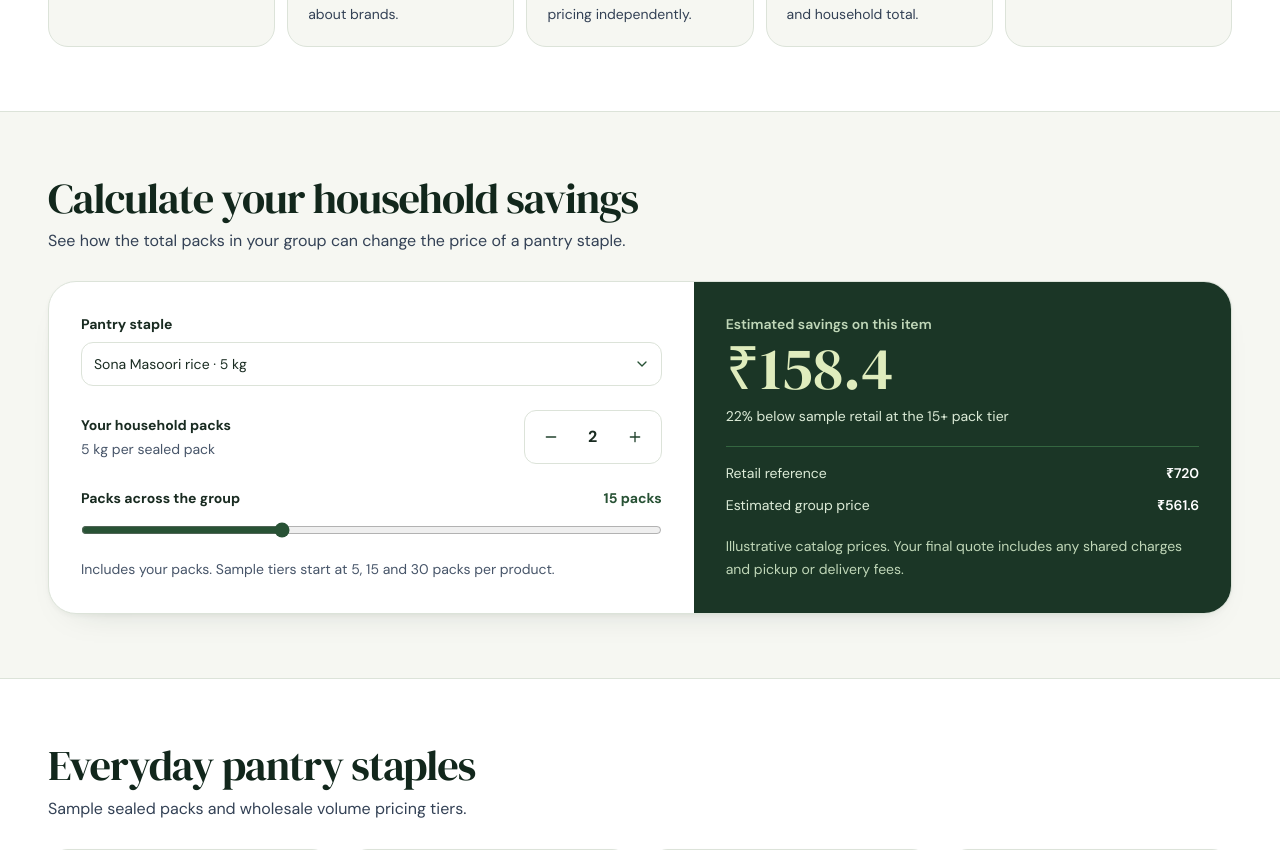
Test: Landing page › recalculates the household total at the selected tier and handles ineligible quantities
The width and height of the screenshot is (1280, 850).
(page scrolled)
Expected: the text "₹158.4" is shown, [726,327,893,409]
Click the button named "Add one household pack".
click(635, 437)  # box [613,415,657,459]
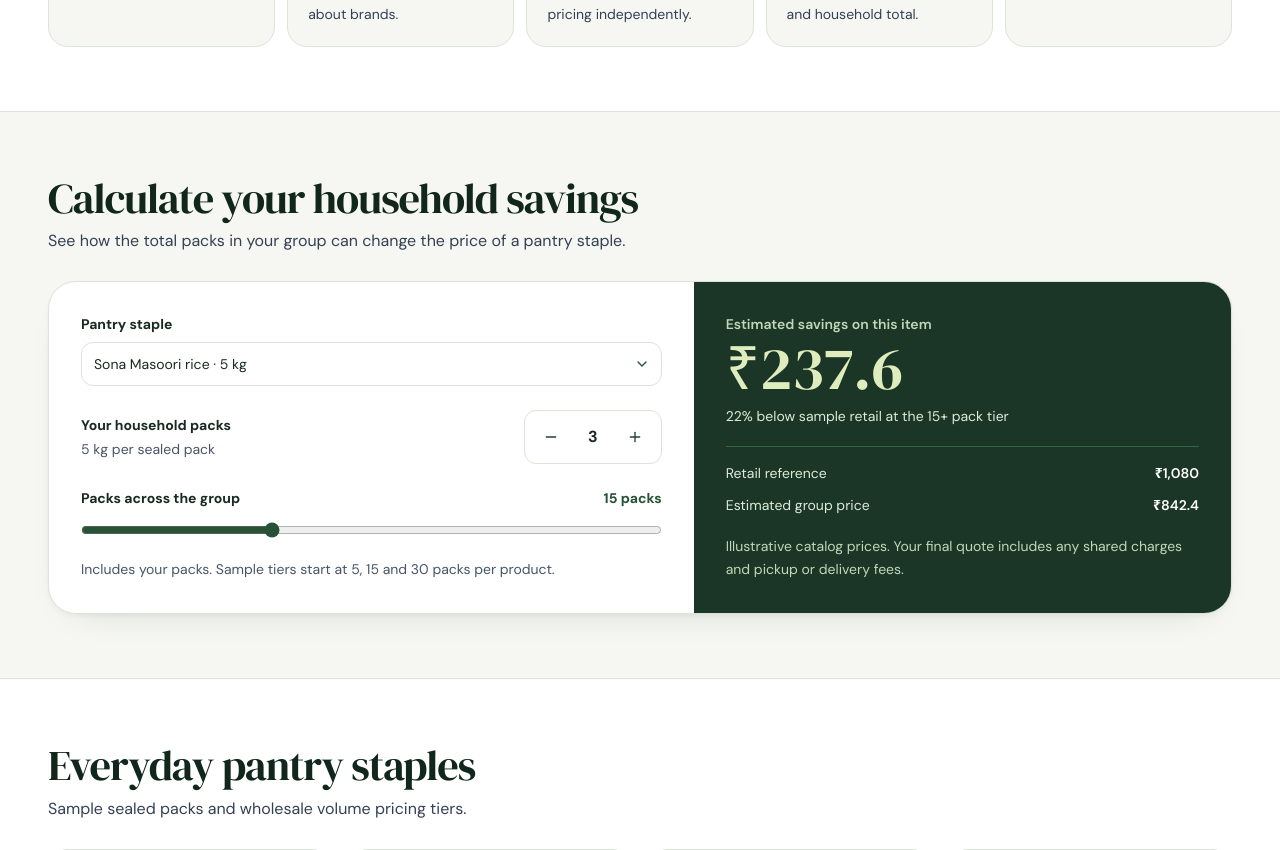
Expected: the text "₹237.6" is shown, [726,327,903,409]
Set the slider to "4" at (104, 530), box [81,508,662,552]
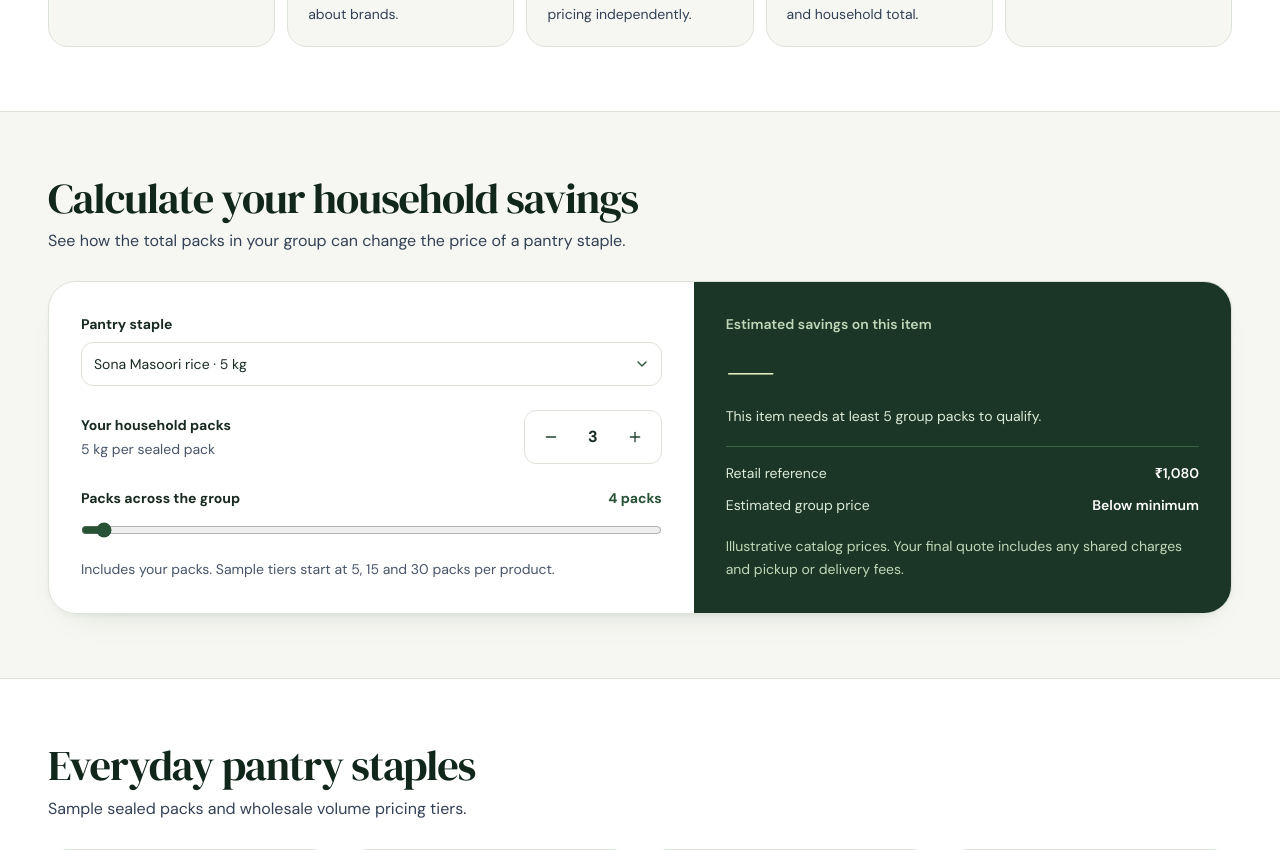
Expected: the text "Below minimum" is shown, [1092,495,1199,515]
Set the slider to "5" at (120, 530), box [81,508,662,552]
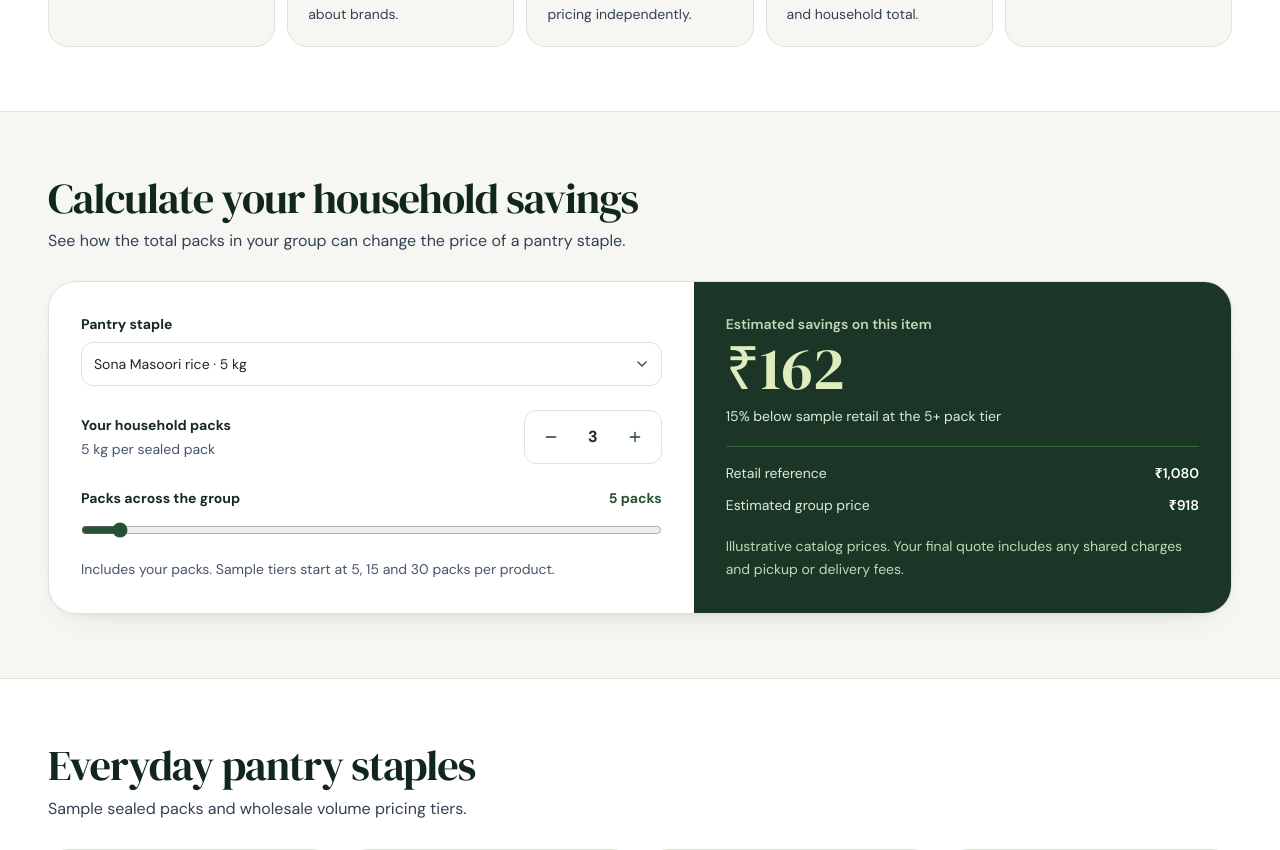
Expected: the text "₹162" is shown, [726,327,845,409]
